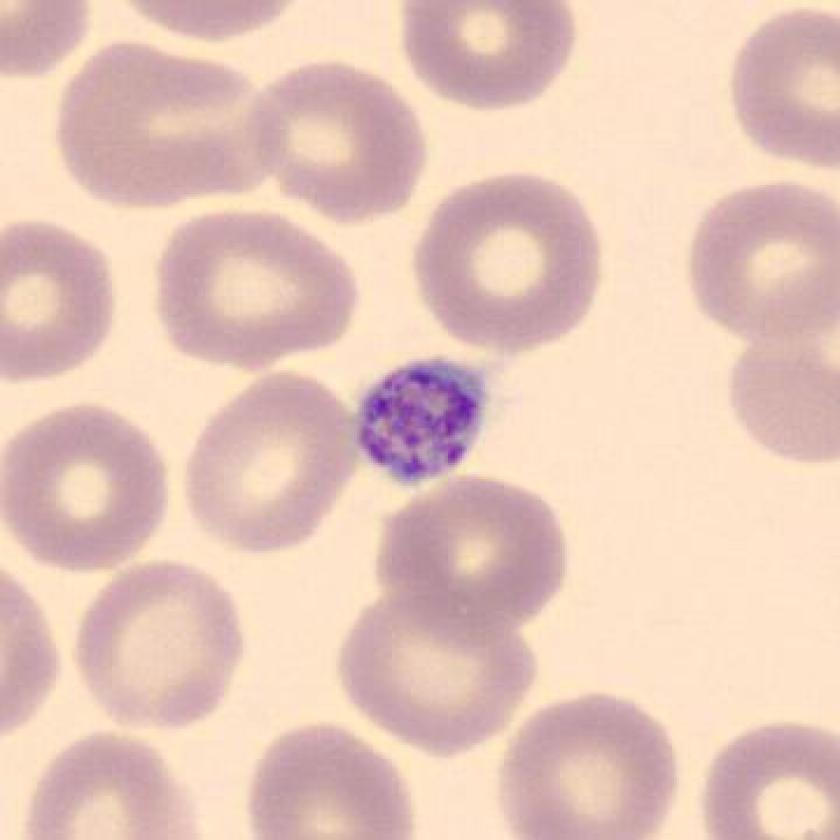platelets: (353, 355, 503, 492)
